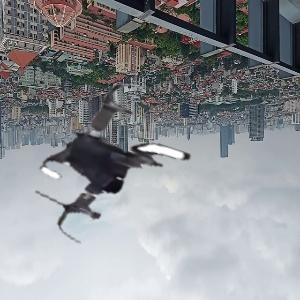drone: (28, 78, 212, 262)
